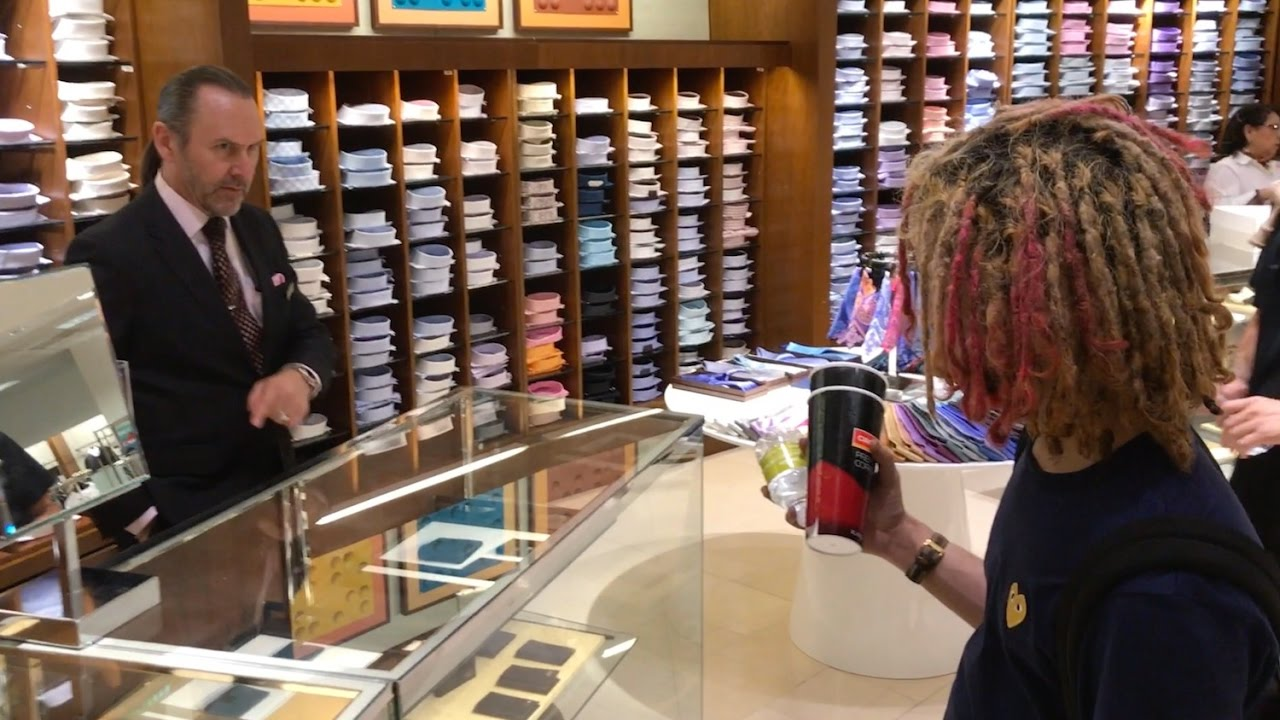Age_30_40: (166, 89, 265, 221), (1236, 98, 1280, 161)
E_Indian: (1236, 98, 1280, 161)
E_White: (166, 89, 265, 221)
Emotion_Angry: (166, 89, 265, 221)
Emotion_Neutral: (1236, 98, 1280, 161)
G_ Female: (1236, 98, 1280, 161)
G_Male: (166, 89, 265, 221)
Not_Face: (911, 100, 1216, 397)
